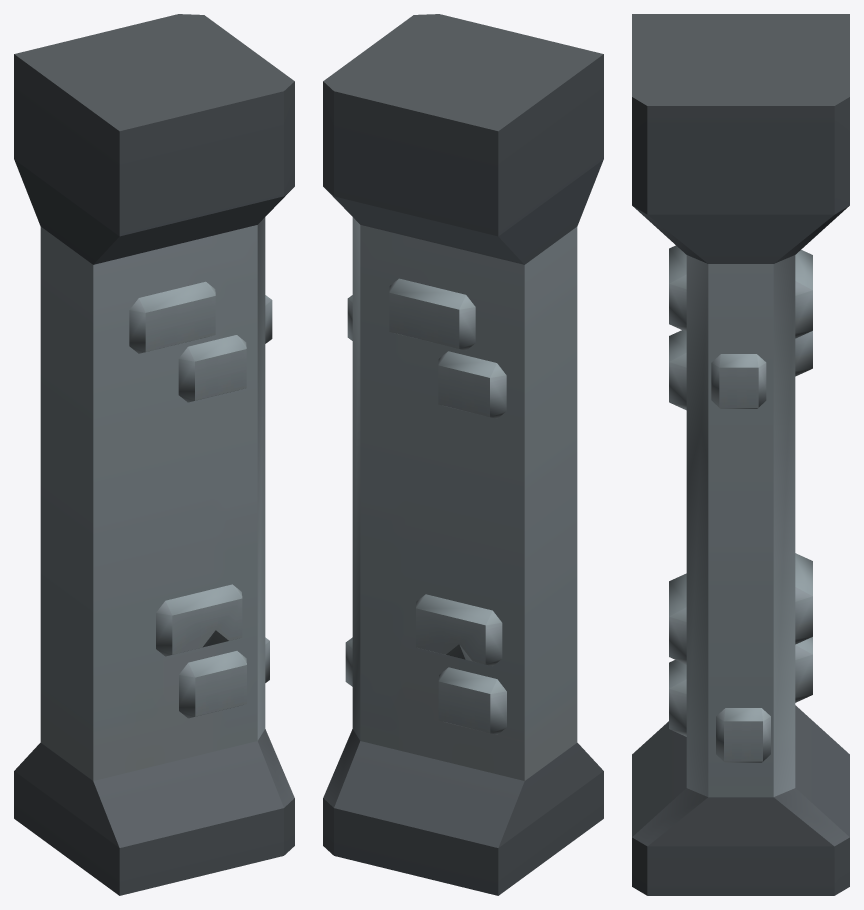
File: kaykit-dungeon-remastered-wall-endcap-gltf.glb
The picture shows the model from 3 angles, left to right: view 1: azimuth 30°, elevation 25°; view 2: azimuth 150°, elevation 25°; view 3: azimuth 270°, elevation 25°; orthographic projection. The views are drawn at different scales.
Visible parts, largest first — view 1: wall_endcap; view 2: wall_endcap; view 3: wall_endcap.
Part boxes in pixels (x1,y1,x2,y2): wall_endcap: (14,14,294,895); wall_endcap: (323,14,603,895); wall_endcap: (632,14,849,895).
Size of the model in its own units: 1.07 by 4 by 1.
Materials: 1 (1 with a texture image).
